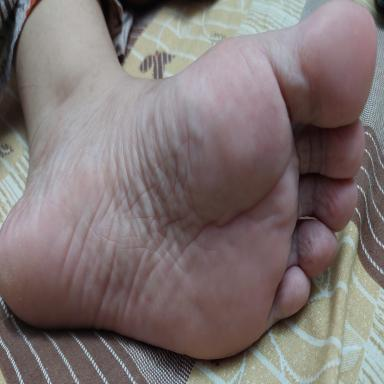normal skin: (0, 1, 377, 359)
